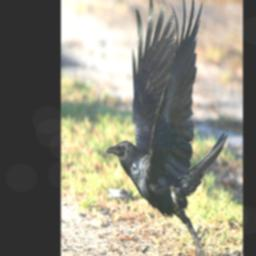Crow: (105, 0, 228, 256)
